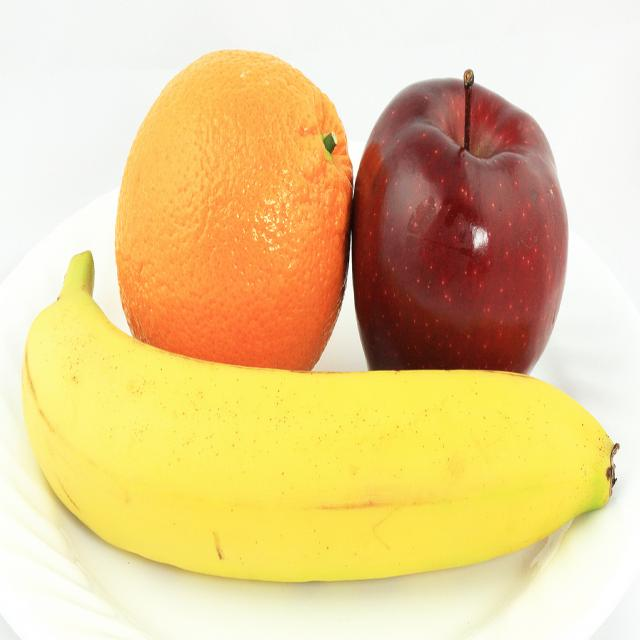apple: (343, 70, 571, 402)
banana: (30, 298, 626, 583)
orange: (114, 41, 356, 390)
